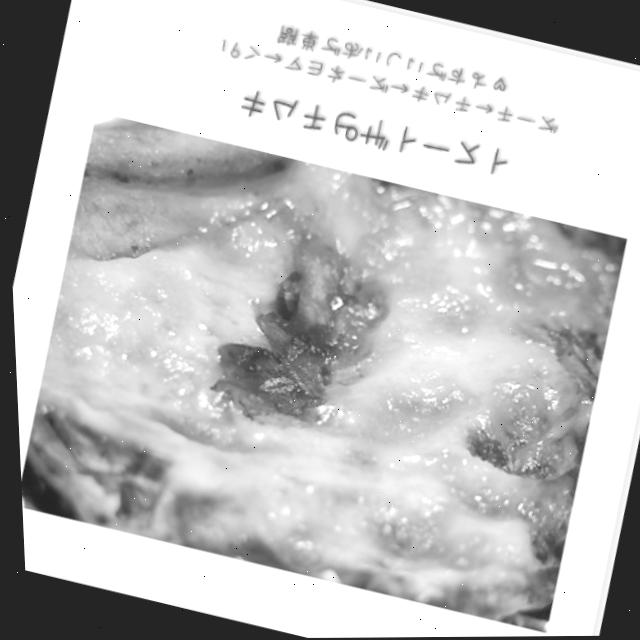面包点心: (4, 100, 637, 638)
